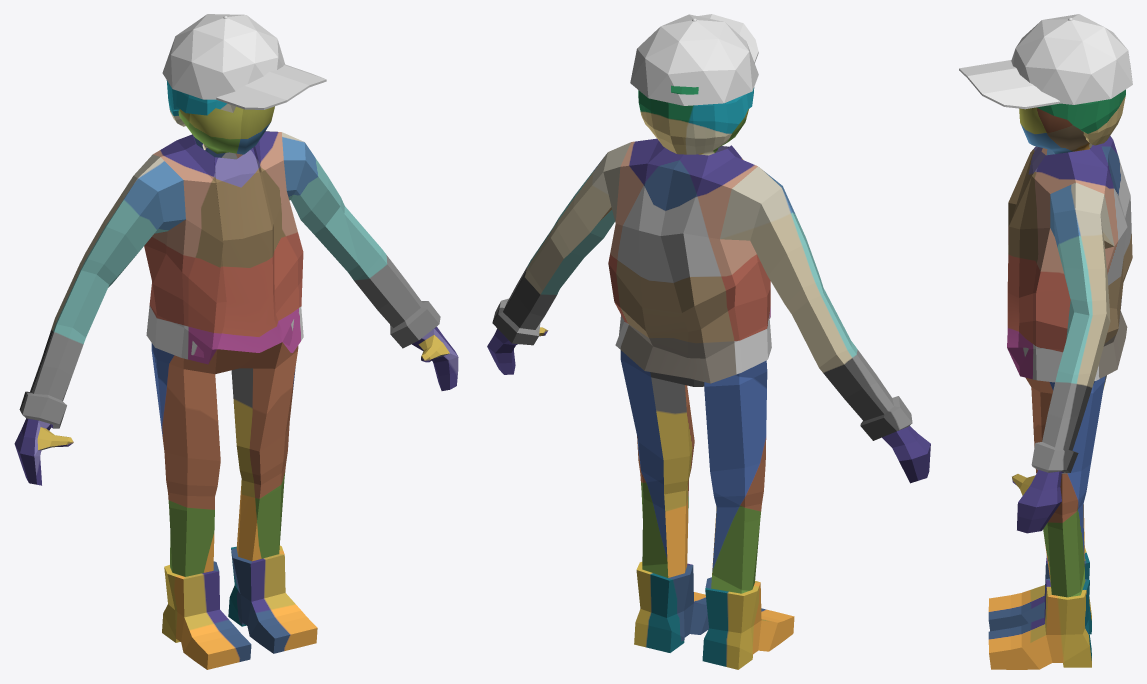
Rendered from pizzaguy.fbx.
The picture shows the model from 3 angles, left to right: view 1: azimuth 30°, elevation 25°; view 2: azimuth 150°, elevation 25°; view 3: azimuth 270°, elevation 25°; orthographic projection. The views are drawn at different scales.
Visible parts, largest first — view 1: Character.003, cap, Character.002, cap.001; view 2: Character.003, cap, Character.002; view 3: Character.003, cap, Character.002, cap.001.
Boxes of the visible parts, box(x1,y1,x2,y2) form: Character.003: box(14, 131, 458, 669); cap: box(162, 14, 285, 99); Character.002: box(166, 80, 274, 154); cap.001: box(216, 64, 326, 109); Character.003: box(487, 138, 930, 669); cap: box(630, 14, 758, 105); Character.002: box(638, 85, 754, 155); Character.003: box(988, 136, 1132, 669); cap: box(1011, 14, 1132, 104); Character.002: box(1019, 89, 1125, 153); cap.001: box(959, 60, 1060, 109).
Bounding box in the file's own units: 1266 × 1727 × 435.
